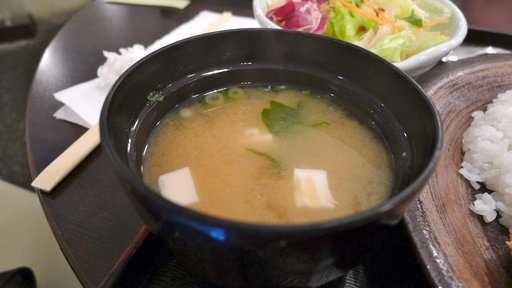soup: (142, 66, 411, 219)
